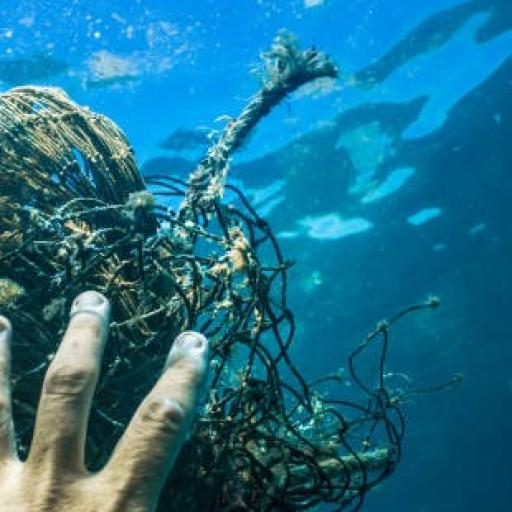net: (4, 34, 441, 512)
